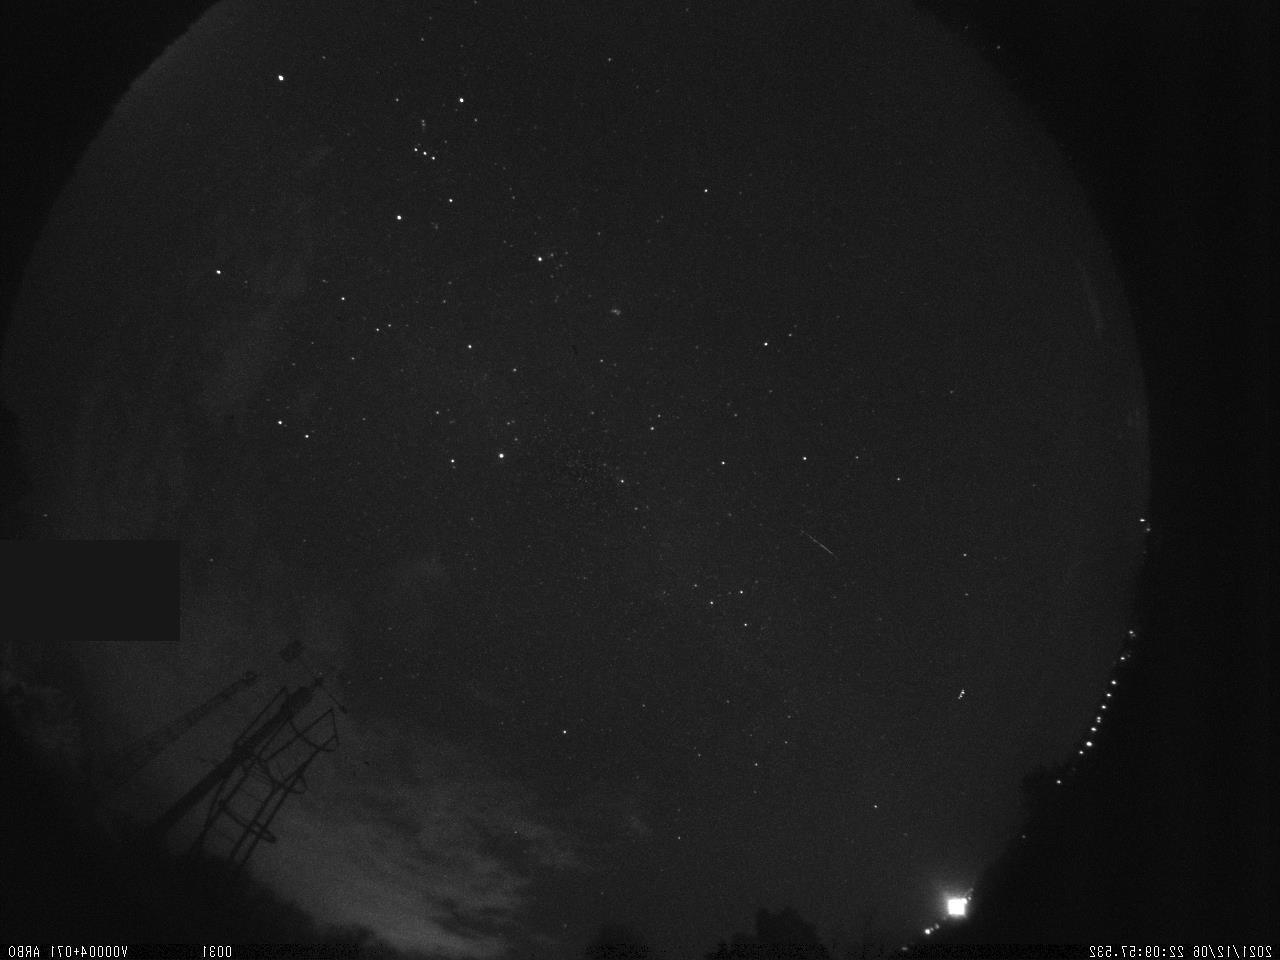meteor: (791, 523, 850, 564)
